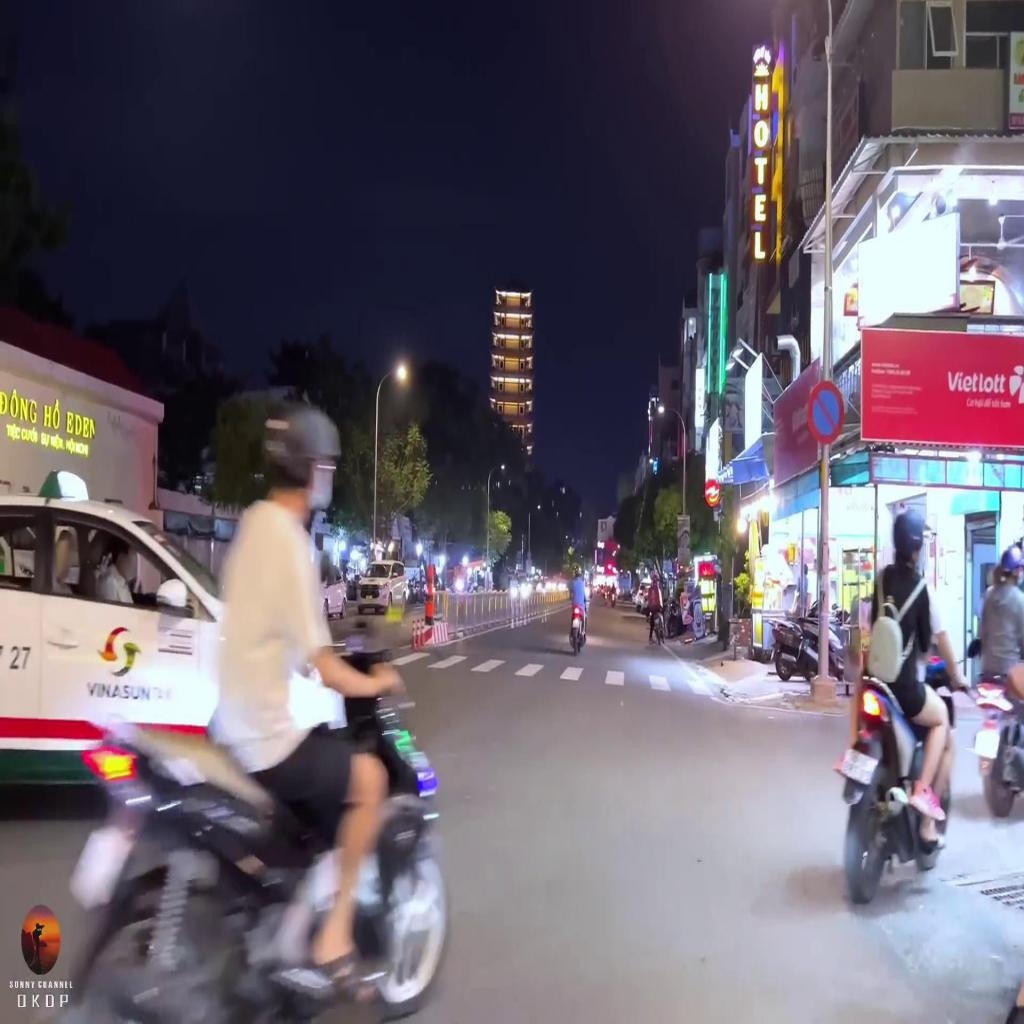cam_do_xe: (808, 380, 844, 444)
